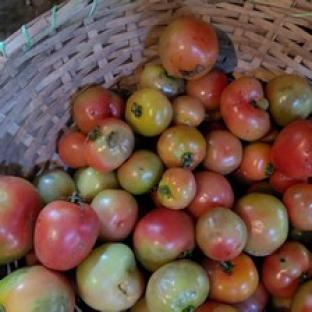Tomato: (76, 243, 144, 311), (34, 201, 100, 270), (133, 207, 194, 271), (158, 16, 218, 79), (0, 176, 41, 264), (233, 193, 288, 256), (0, 265, 75, 311), (221, 77, 271, 142), (147, 260, 210, 311), (261, 241, 311, 298), (202, 253, 259, 303), (84, 117, 135, 171), (195, 207, 246, 260), (91, 189, 139, 242), (73, 85, 125, 133), (267, 73, 311, 126), (271, 120, 311, 178), (187, 170, 233, 218), (126, 88, 172, 136), (158, 124, 206, 169), (117, 150, 164, 194), (202, 129, 243, 175), (187, 69, 228, 112), (74, 166, 119, 203), (138, 63, 185, 98), (156, 168, 196, 208), (33, 168, 76, 204), (237, 141, 274, 182), (283, 183, 311, 231), (233, 280, 271, 311), (58, 130, 86, 168), (172, 95, 204, 126), (269, 170, 307, 194), (290, 280, 311, 311), (195, 299, 239, 311), (130, 294, 150, 311)
